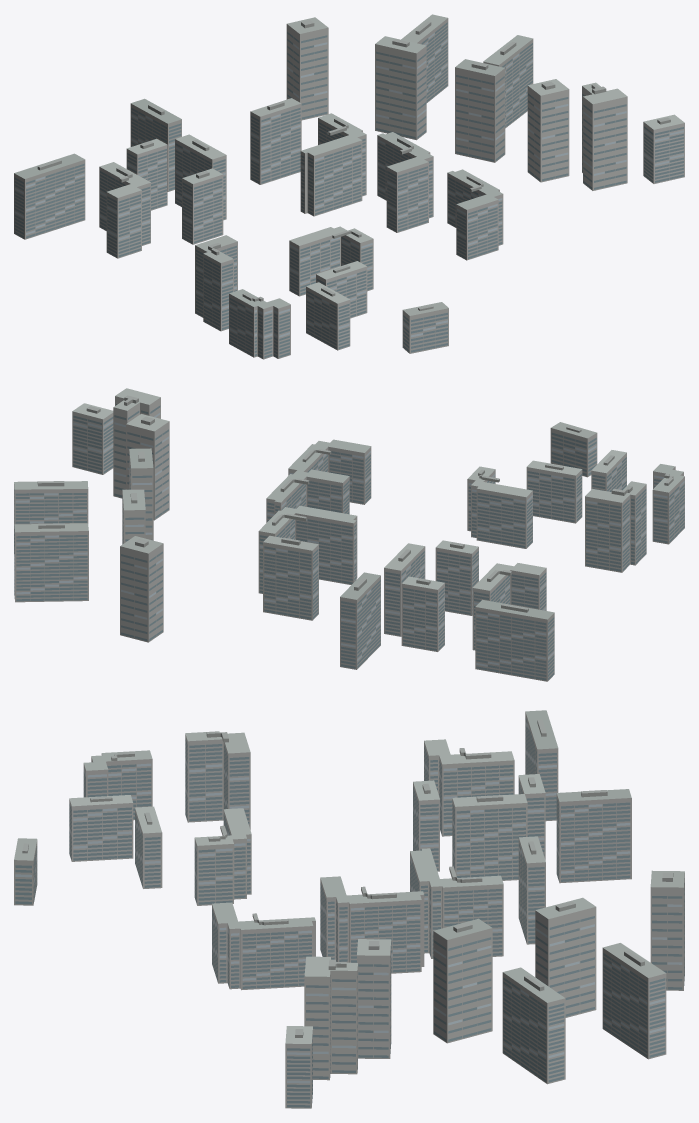
File: apt-a13610007.glb
The picture shows the model from 3 angles, top to bottom: view 1: azimuth 30°, elevation 25°; view 2: azimuth 150°, elevation 25°; view 3: azimuth 270°, elevation 25°; orthographic projection. The views are drawn at different scales.
Parts seen in each view (by area): view 1: apt-a13610007; view 2: apt-a13610007; view 3: apt-a13610007.
Boxes of the visible parts, x1,y1,x2,y2 form: apt-a13610007: (14,14,684,359); apt-a13610007: (14,388,684,681); apt-a13610007: (14,710,684,1108).
Size of the model in its own units: 444 by 68 by 386.
